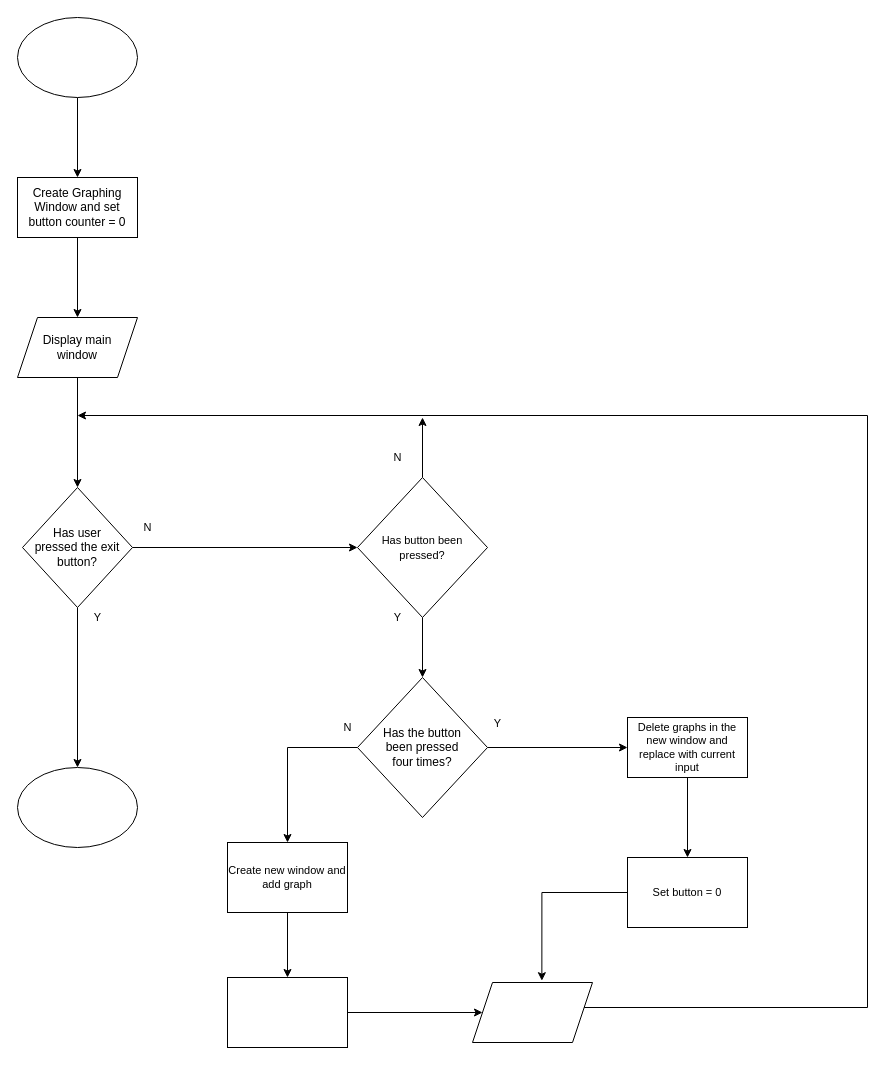
Image size: 893x1065. Some labels were removed from this diagram. The shapes that lost their labels are listed below. From the top down, each one's centre as x and y in pixels, then its label:
point 77,57: Start
point 77,807: End
point 287,1012: Button Counter =+ 1
point 532,1012: Display window with graph
